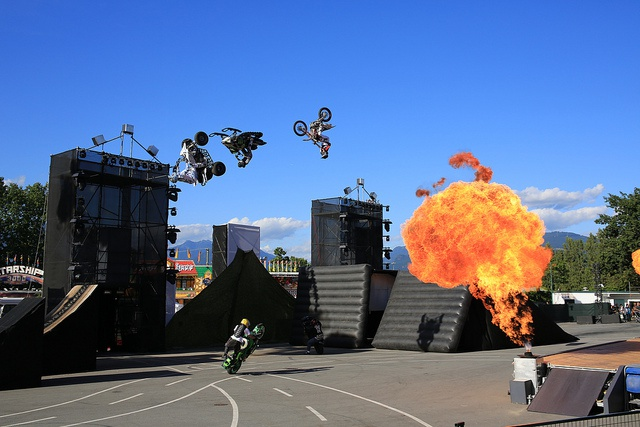non-vehicle: (181, 130, 225, 185), (221, 323, 265, 374), (212, 126, 267, 162), (292, 106, 336, 148), (301, 315, 324, 353)
